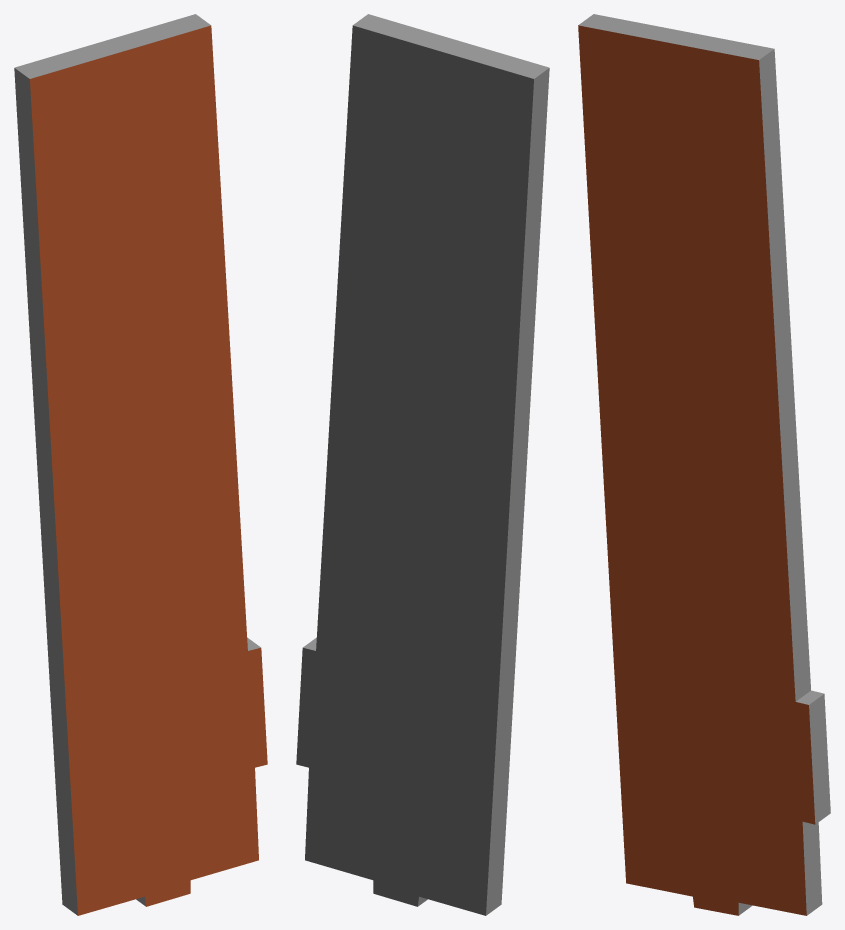
File: construction_0090_assumed_A_Grande_construcao_h6m.obj
3 views of the same model, side by side, from view 1: azimuth 30°, elevation 25°; view 2: azimuth 150°, elevation 25°; view 3: azimuth 330°, elevation 25° (orthographic).
Visible parts, largest first — view 1: construction_0090_assumed_A_Grande_construcao; view 2: construction_0090_assumed_A_Grande_construcao; view 3: construction_0090_assumed_A_Grande_construcao.
Boxes of the visible parts, left/top/right/bottom form: construction_0090_assumed_A_Grande_construcao: left=14, top=14, right=267, bottom=915; construction_0090_assumed_A_Grande_construcao: left=296, top=14, right=549, bottom=915; construction_0090_assumed_A_Grande_construcao: left=578, top=14, right=830, bottom=915.
Size of the model in its own units: 52.85 by 184 by 6.
